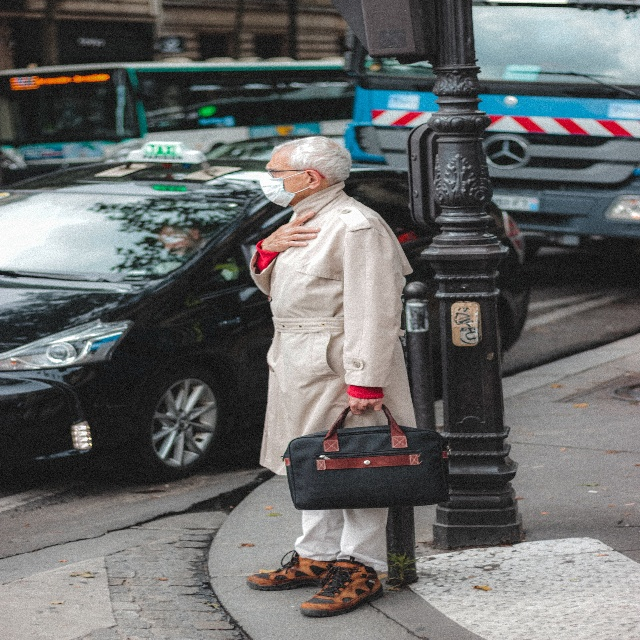Gafas: (264, 169, 325, 180)
Mascara: (260, 170, 309, 208)
Sin_guantes: (261, 210, 320, 253), (347, 393, 383, 415)
